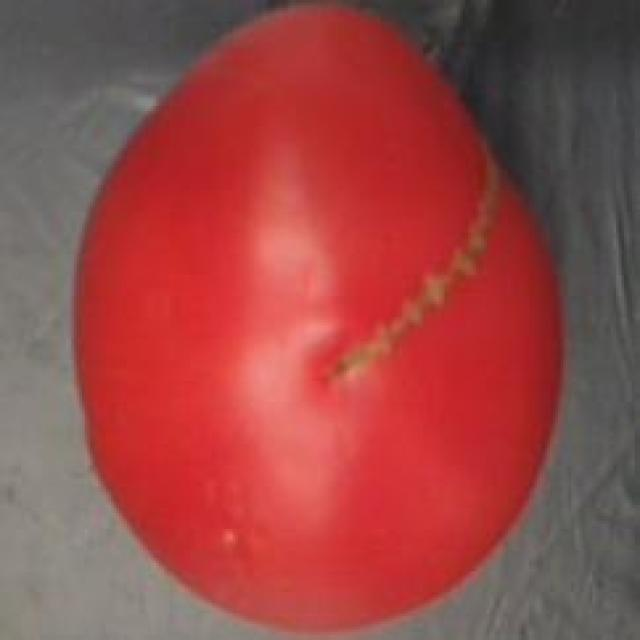overripe tomato: (42, 0, 576, 629)
